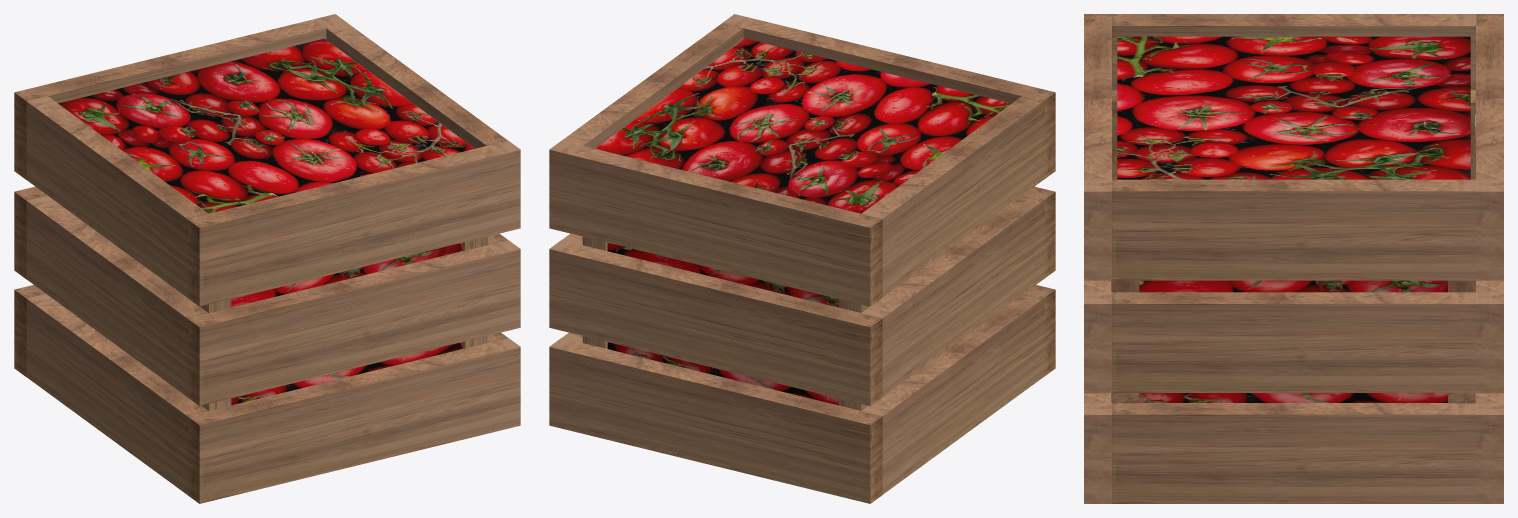
The model's file is tomato_crate.obj.
3 views of the same model, side by side, from view 1: azimuth 30°, elevation 25°; view 2: azimuth 150°, elevation 25°; view 3: azimuth 270°, elevation 25° (orthographic). The views are drawn at different scales.
Parts seen in each view (by area): view 1: Cube.017_Cube.021, Cube.010, Cube.002, Cube, Cube.013, Cube.008, Cube.007, Cube.011, Cube.012, Cube.004, Cube.003; view 2: Cube.017_Cube.021, Cube.004, Cube.011, Cube.003, Cube.013, Cube.008, Cube.007, Cube.010, Cube.012, Cube.002, Cube; view 3: Cube.017_Cube.021, Cube.012, Cube.005, Cube.006, Cube.013, Cube.010, Cube.011, Cube.004, Cube.002, Cube, Cube.003, Cube.016_Cube.019 (+3 smaller).
Part boxes in pixels (x1=…): Cube.017_Cube.021: x1=58, y1=38, x2=474, y2=405; Cube.010: x1=187, y1=140, x2=520, y2=306; Cube.002: x1=187, y1=240, x2=520, y2=405; Cube: x1=187, y1=338, x2=520, y2=503; Cube.013: x1=26, y1=96, x2=208, y2=297; Cube.008: x1=26, y1=195, x2=208, y2=396; Cube.007: x1=26, y1=294, x2=207, y2=494; Cube.011: x1=14, y1=14, x2=347, y2=179; Cube.012: x1=326, y1=23, x2=507, y2=148; Cube.004: x1=14, y1=186, x2=47, y2=279; Cube.003: x1=14, y1=285, x2=45, y2=376; Cube.017_Cube.021: x1=595, y1=38, x2=1011, y2=405; Cube.004: x1=549, y1=240, x2=882, y2=405; Cube.011: x1=549, y1=140, x2=882, y2=306; Cube.003: x1=549, y1=338, x2=882, y2=503; Cube.013: x1=861, y1=96, x2=1043, y2=297; Cube.008: x1=861, y1=195, x2=1043, y2=396; Cube.007: x1=862, y1=294, x2=1043, y2=494; Cube.010: x1=722, y1=14, x2=1055, y2=179; Cube.012: x1=562, y1=23, x2=743, y2=148; Cube.002: x1=1022, y1=186, x2=1055, y2=279; Cube: x1=1024, y1=285, x2=1055, y2=376; Cube.017_Cube.021: x1=1117, y1=36, x2=1470, y2=402; Cube.012: x1=1112, y1=179, x2=1475, y2=280; Cube.005: x1=1112, y1=403, x2=1475, y2=503; Cube.006: x1=1112, y1=292, x2=1475, y2=392; Cube.013: x1=1112, y1=14, x2=1475, y2=114; Cube.010: x1=1084, y1=14, x2=1111, y2=280; Cube.011: x1=1476, y1=14, x2=1503, y2=280; Cube.004: x1=1476, y1=280, x2=1503, y2=393; Cube.002: x1=1084, y1=280, x2=1111, y2=393; Cube: x1=1084, y1=393, x2=1111, y2=503; Cube.003: x1=1476, y1=393, x2=1503, y2=503; Cube.016_Cube.019: x1=1111, y1=280, x2=1139, y2=403.
Bounding box in the file's own units: 2.31 × 1.9 × 2.31.
Materials: 2 (2 with a texture image).
